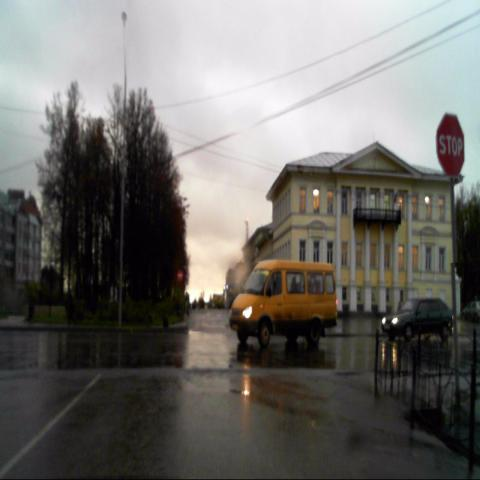2_5: (436, 113, 464, 177)
